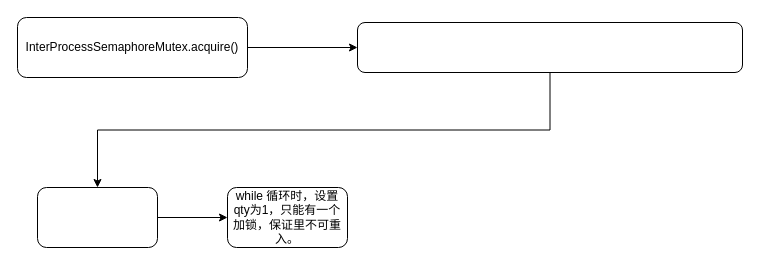
This 760x265 diagram has some shape labels left out. Here are the shapes that lost their labels. From the top down, the box of each, then its label:
(356, 22, 742, 72): switch ( internalAcquire1Lease(builder, startMs, hasWait, waitMs) )
(36, 186, 158, 248): 本质上用的还是InterProcessMutex
